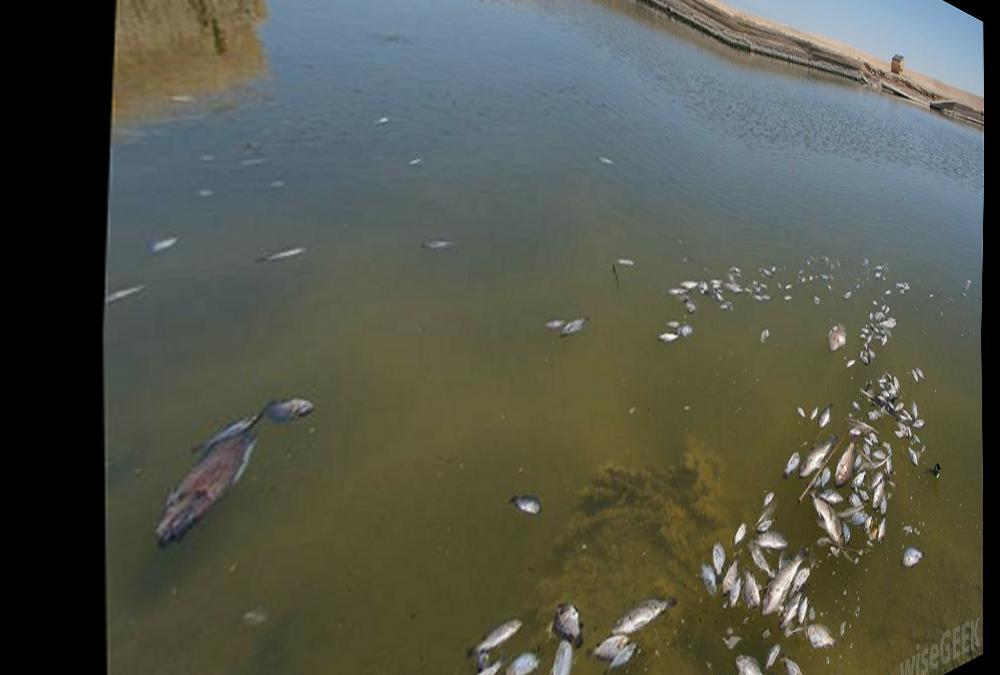Dead Animals Pollution: (668, 233, 942, 671)
